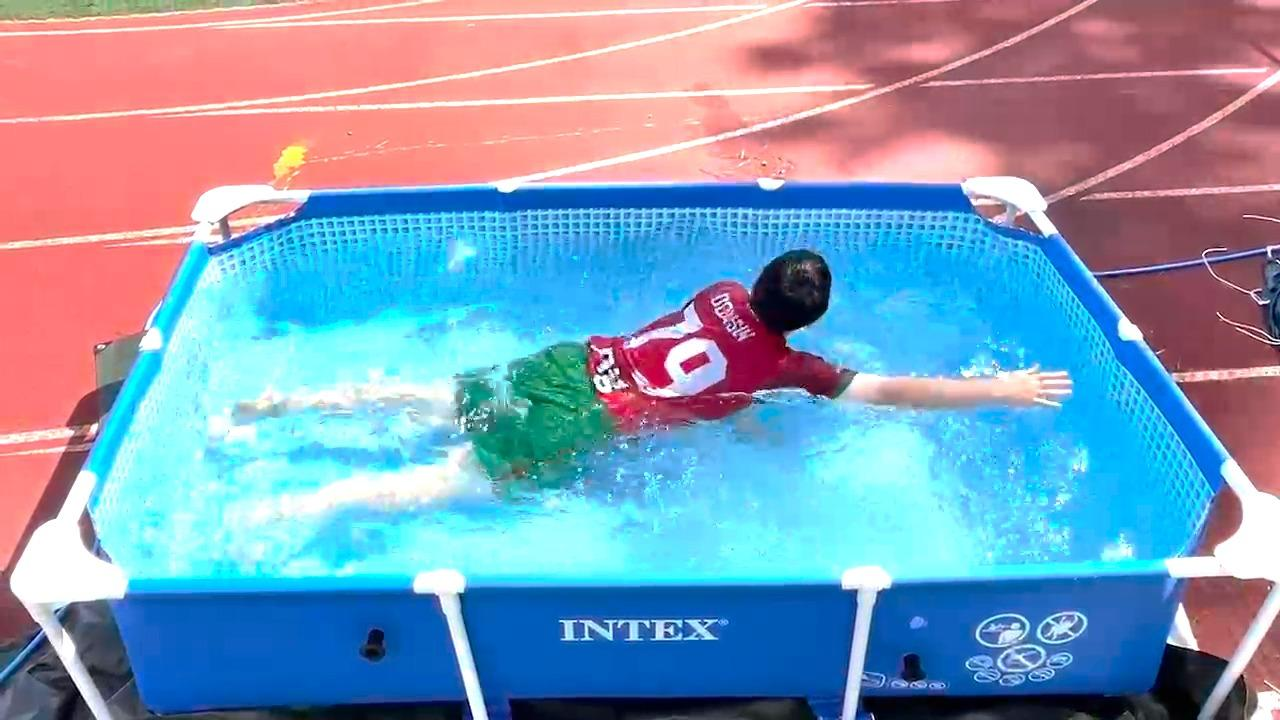Swimming: (234, 228, 1076, 490)
